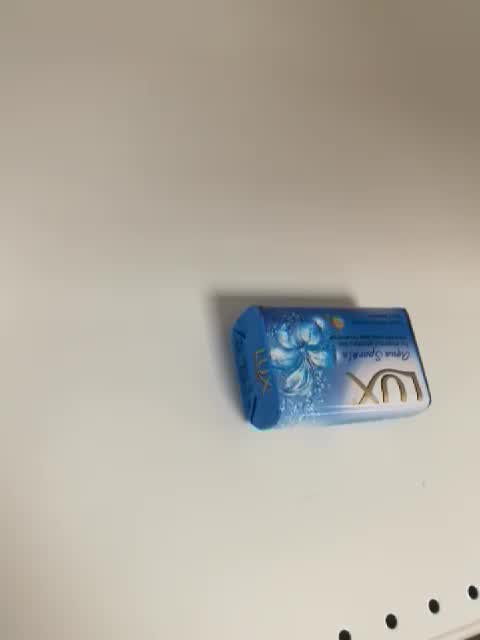soap: (230, 303, 432, 433)
